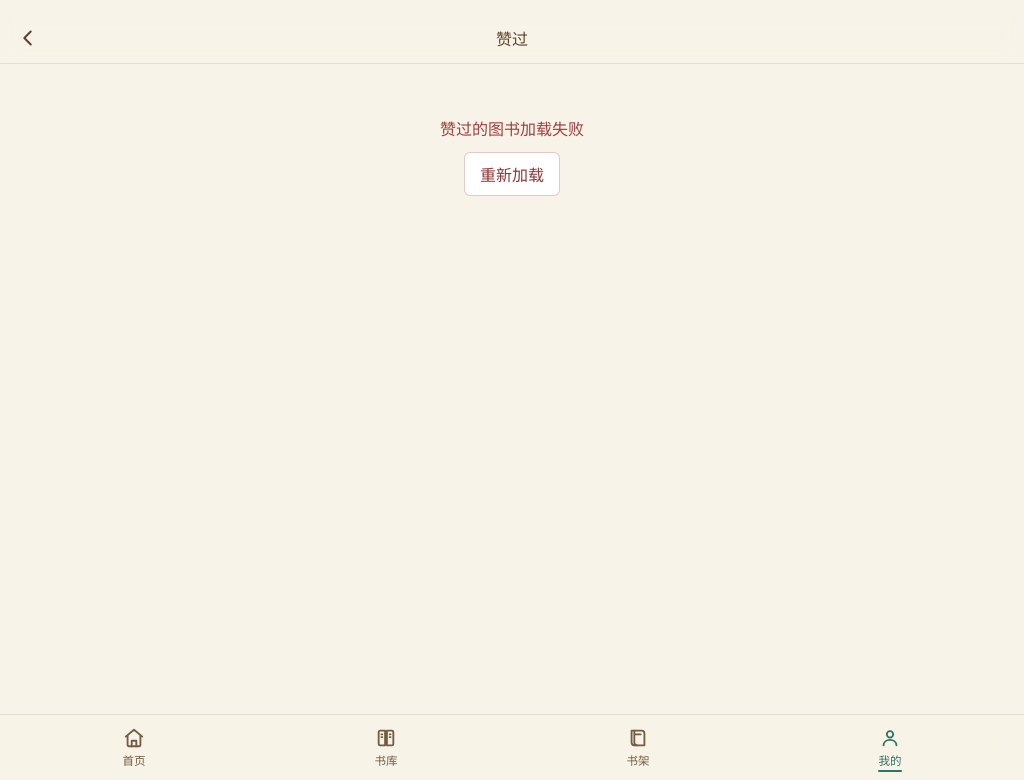
Test case: LikedBooksPage › uses a safe message for generic HTTP failures and retries
The image size is (1024, 780).
Expected: the text "赞过的图书加载失败" is shown, [440, 116, 584, 140]
Click the button "重新加载": coordinates (512, 174) [464, 152, 560, 196]
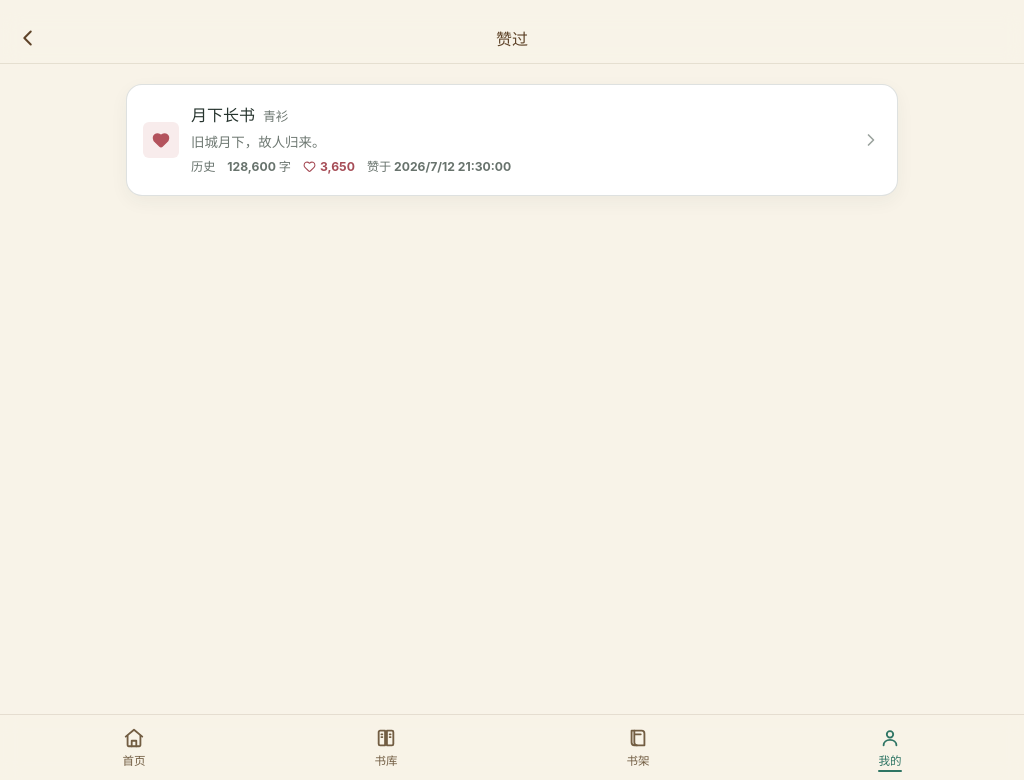
Expected: the text "月下长书" is shown, [191, 105, 255, 126]
